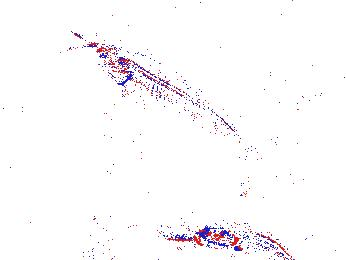glassfish: (89, 43, 281, 195), (192, 224, 297, 260)
